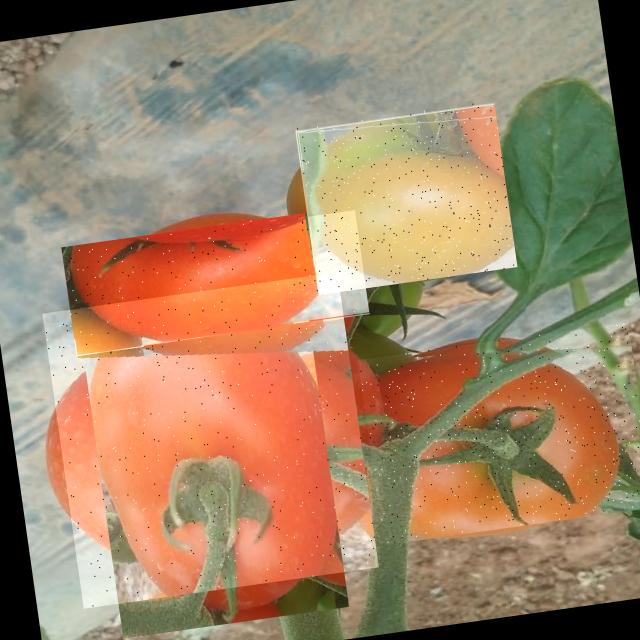Ripe Tomato: (42, 272, 379, 609), (358, 322, 640, 545), (62, 206, 370, 356)
Unripe Tomato: (296, 100, 518, 294)
